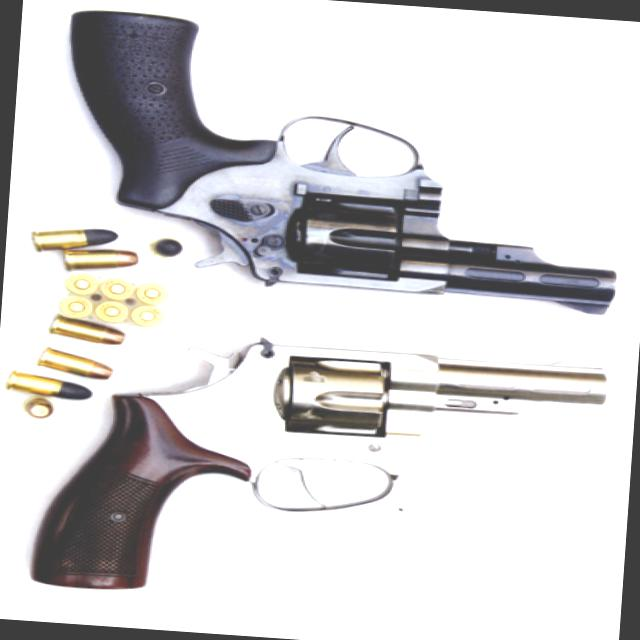handgun: (50, 2, 634, 317), (25, 314, 609, 624)
